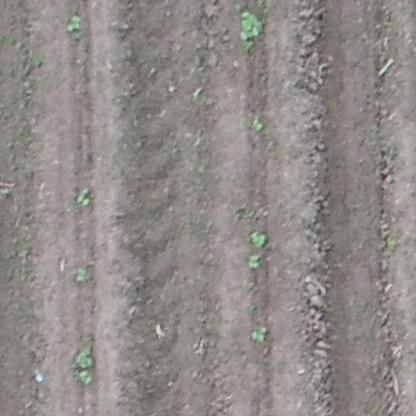vc: (238, 10, 266, 50), (74, 184, 96, 207), (250, 321, 269, 346), (63, 13, 83, 35), (73, 263, 91, 283), (251, 230, 267, 248), (250, 115, 265, 134), (248, 256, 260, 267)
